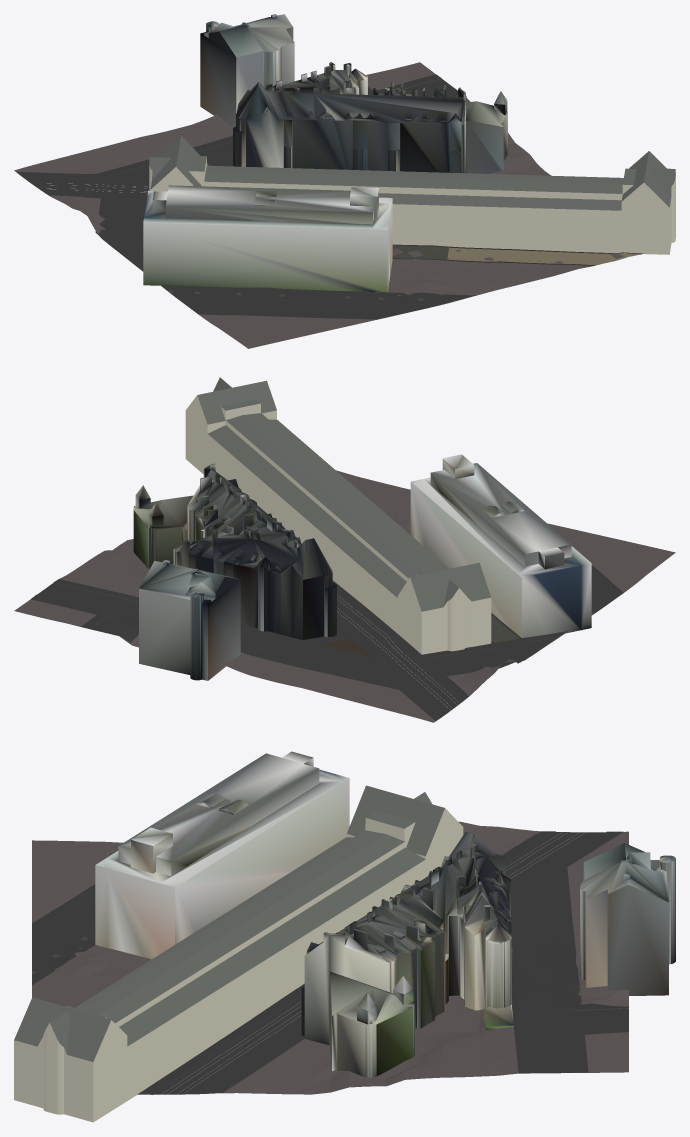
3 renders of one model, top to bottom at view 1: azimuth 30°, elevation 25°; view 2: azimuth 150°, elevation 25°; view 3: azimuth 270°, elevation 25°, orthographic. The views are drawn at different scales.
Parts seen in each view (by area): view 1: c_p05_p02; view 2: c_p05_p02; view 3: c_p05_p02.
Boxes of the visible parts, x1,y1,x2,y2 form: c_p05_p02: (14,14,675,348); c_p05_p02: (14,377,675,722); c_p05_p02: (14,751,675,1122).
Bounding box in the file's own units: 146 × 30.83 × 142.
